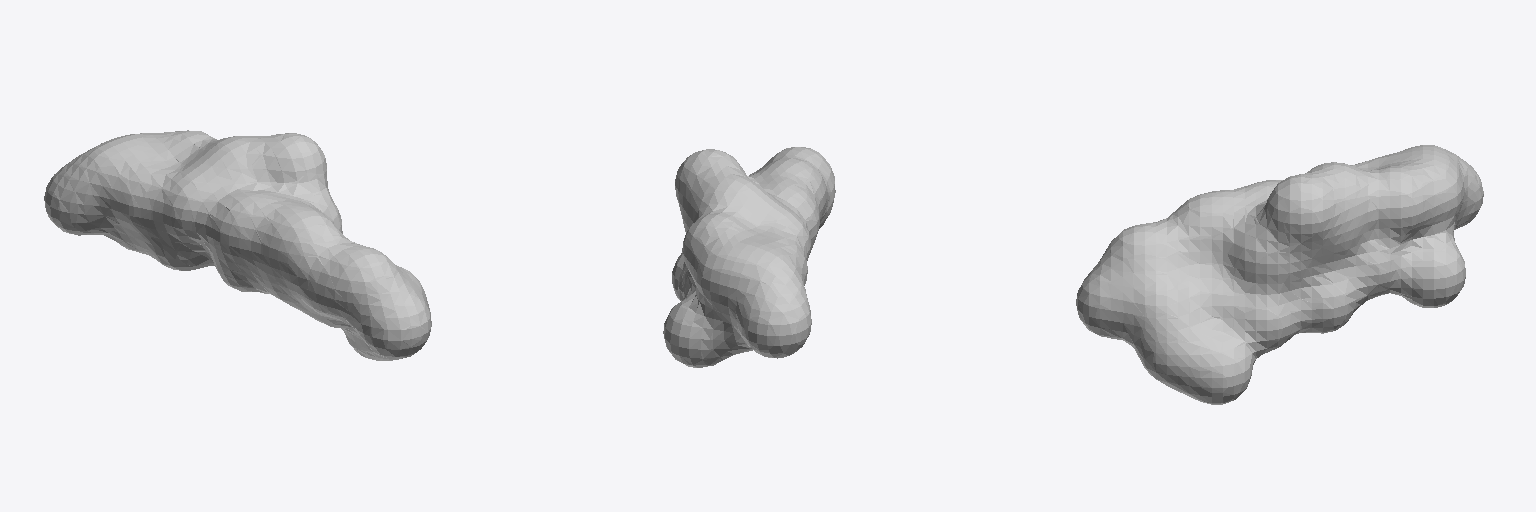
File: Blob.obj
3 views of the same model, side by side, from view 1: azimuth 30°, elevation 25°; view 2: azimuth 150°, elevation 25°; view 3: azimuth 270°, elevation 25° (orthographic).
Parts seen in each view (by area): view 1: Blob_Mesh.001; view 2: Blob_Mesh.001; view 3: Blob_Mesh.001.
Boxes of the visible parts, box(x1,y1,x2,y2) form: Blob_Mesh.001: box(44, 130, 431, 360); Blob_Mesh.001: box(663, 147, 835, 367); Blob_Mesh.001: box(1076, 145, 1483, 404).
Size of the model in its own units: 0.8127 by 0.6354 by 1.17.